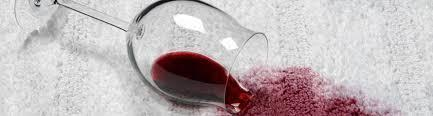oil: (232, 65, 393, 116)
